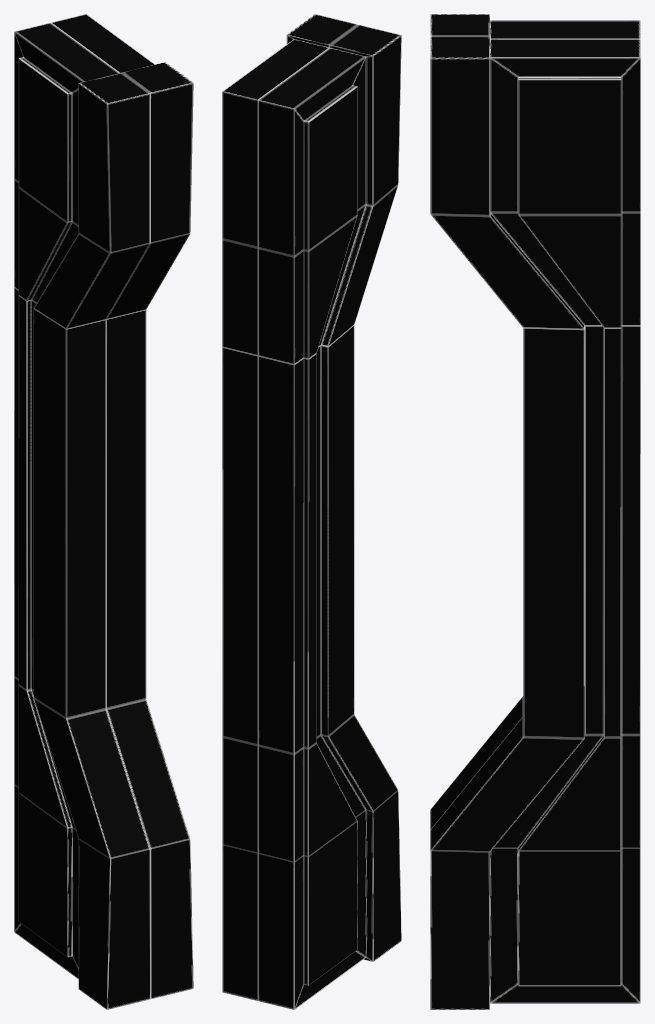
3 views of the same model, side by side, from view 1: azimuth 30°, elevation 25°; view 2: azimuth 150°, elevation 25°; view 3: azimuth 270°, elevation 25° (orthographic). The views are drawn at different scales.
Visible parts, largest first — view 1: DD_19; view 2: DD_19; view 3: DD_19.
Part boxes in pixels (<box>): DD_19: <box>14,14,193,1009</box>; DD_19: <box>222,14,401,1009</box>; DD_19: <box>430,14,640,1009</box>.
Bounding box in the file's own units: 250 × 2500 × 500.
1 material, 1 textured.
